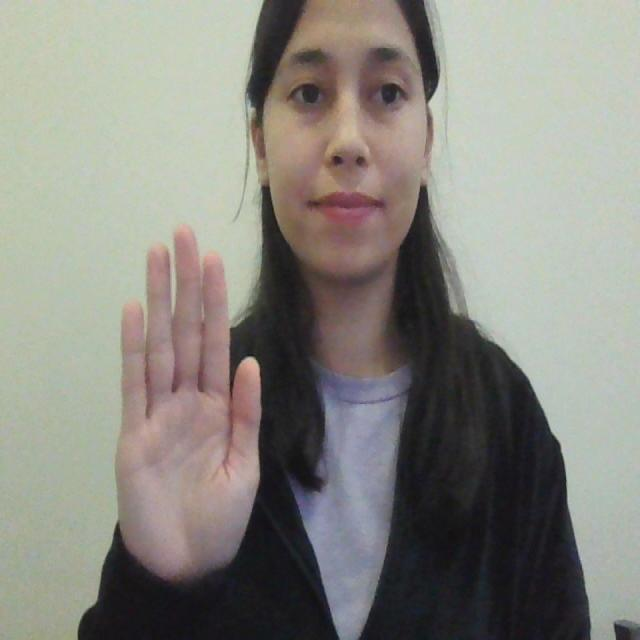Dur: (103, 202, 275, 590)
